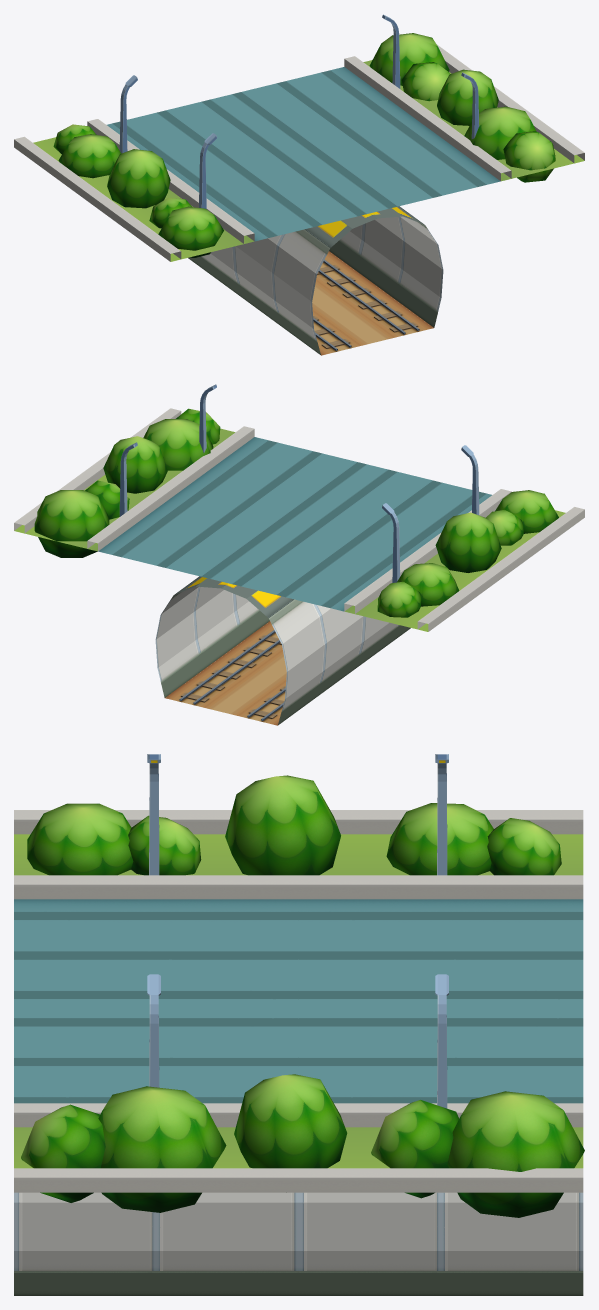
Rendered from Tunnel01_02.FBX.
The picture shows the model from 3 angles, top to bottom: view 1: azimuth 30°, elevation 25°; view 2: azimuth 150°, elevation 25°; view 3: azimuth 270°, elevation 25°; orthographic projection. The views are drawn at different scales.
Parts seen in each view (by area): view 1: Tunnel, Rail (×2); view 2: Tunnel, Rail (×2); view 3: Tunnel.
Boxes of the visible parts, x1,y1,x2,y2 form: Tunnel: [14, 14, 584, 354]; Rail (×2): [312, 251, 433, 355]; Tunnel: [14, 384, 584, 725]; Rail (×2): [165, 621, 286, 725]; Tunnel: [14, 754, 584, 1295].
Bounding box in the file's own units: 2445 × 1183 × 1605.
